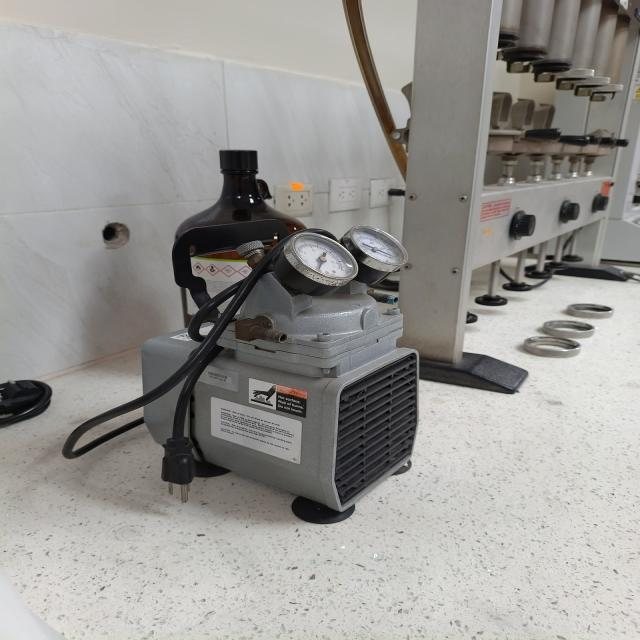Bomba de Vacio de Membrana - Diafragma Portatil: (63, 150, 419, 523)
